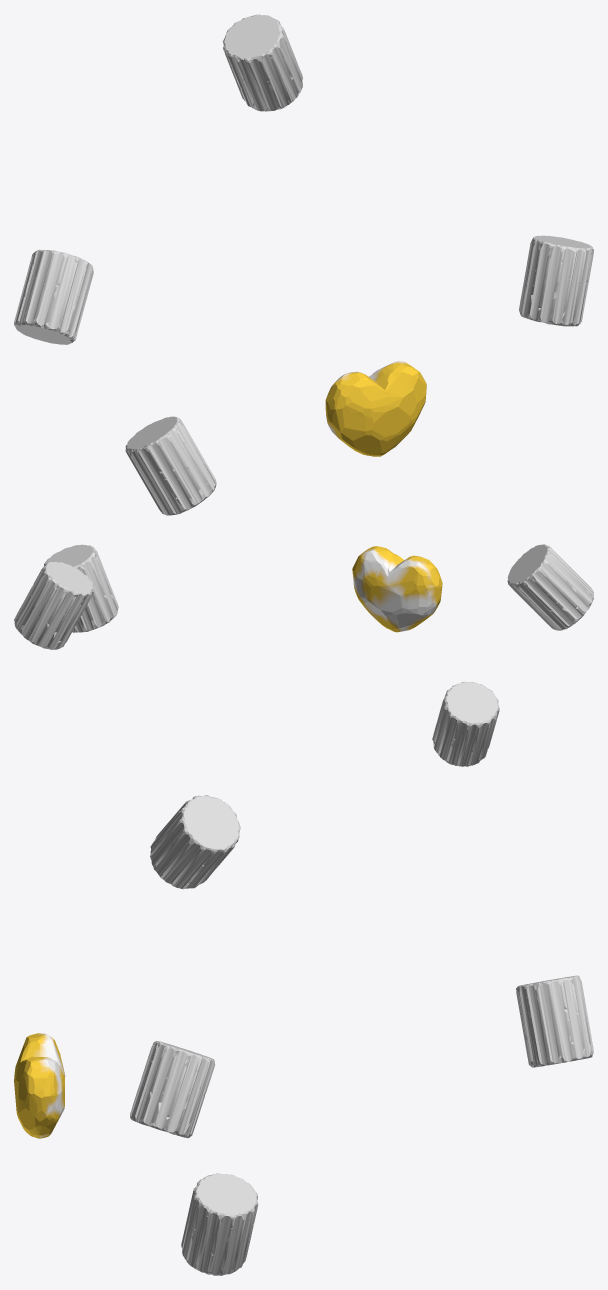
The model's file is objectsOnGlass5.glb.
3 renders of one model, top to bottom at view 1: azimuth 30°, elevation 25°; view 2: azimuth 150°, elevation 25°; view 3: azimuth 270°, elevation 25°, orthographic. The views are drawn at different scales.
Parts seen in each view (by area): view 1: objectsOnGlass, pillars.005, pillars.002, pillars.004, pillars.003; view 2: objectsOnGlass, pillars.004, pillars.002, pillars.005, pillars.003; view 3: pillars.003, pillars.002, pillars.004, pillars.005, objectsOnGlass.
Boxes of the visible parts, box(x1,y1,x2,y2) form: objectsOnGlass: box(325, 361, 426, 456); pillars.005: box(125, 416, 216, 515); pillars.002: box(14, 249, 93, 344); pillars.004: box(222, 14, 302, 111); pillars.003: box(519, 235, 593, 326); objectsOnGlass: box(352, 546, 442, 632); pillars.004: box(14, 561, 93, 649); pillars.002: box(507, 544, 593, 630); pillars.005: box(432, 681, 499, 766); pillars.003: box(44, 544, 118, 632); pillars.003: box(181, 1173, 258, 1275); pillars.002: box(150, 795, 240, 889); pillars.004: box(516, 975, 593, 1067); pillars.005: box(130, 1041, 215, 1138); objectsOnGlass: box(14, 1033, 65, 1138).
Size of the model in its own units: 14.23 by 6.67 by 11.69.
